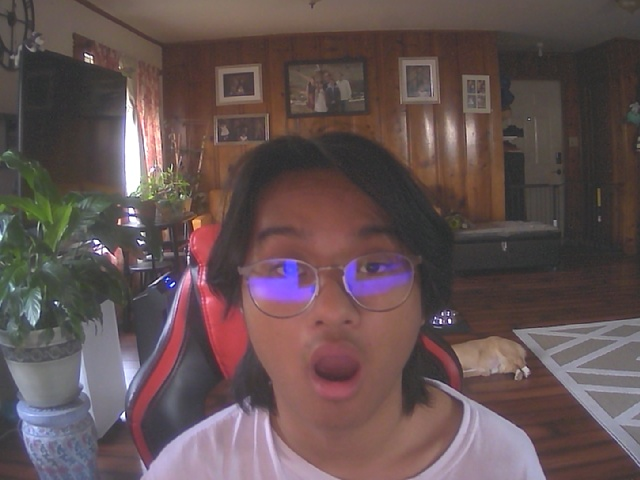fear: (233, 153, 439, 435)
